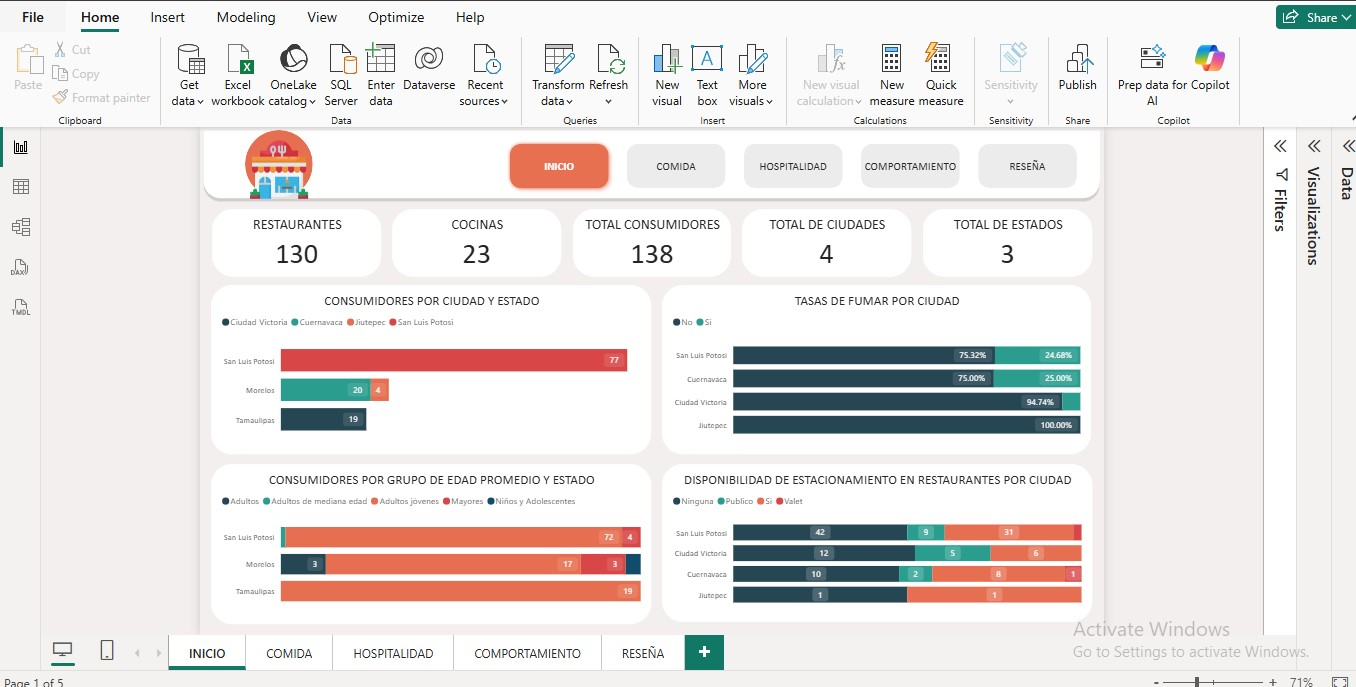

This screenshot's page, from the dashboard's own definition file:
{"tool":"powerbi","page":{"name":"INICIO","canvas":[1280,720],"ordinal":0},"visuals":[{"type":"shape","box":[0,0,1280.5,105.9],"z":0},{"type":"card","title":"TOTAL DE CIUDADES","fields":{"Values":["Count(restaurants.City)"]},"box":[768.4,116.5,240,96],"z":1000},{"type":"card","title":"RESTAURANTES","fields":{"Values":["Count(restaurants.Restaurant_ID)"]},"box":[16.4,116.5,240,96],"z":2000},{"type":"card","title":"COCINAS","fields":{"Values":["Count(restaurant_cuisines.Cuisine)"]},"box":[272.4,116.5,240,96],"z":3000},{"type":"card","title":"TOTAL CONSUMIDORES","fields":{"Values":["Count(consumer_preferences.Consumer_ID)"]},"box":[528.4,116.5,224,96],"z":4000},{"type":"card","title":"TOTAL DE ESTADOS","fields":{"Values":["Count(restaurants.State)"]},"box":[1024.4,116.5,240,96],"z":5000},{"type":"pageNavigator","box":[430.9,15.6,823.5,79.4],"z":6000},{"type":"barChart","title":"CONSUMIDORES POR CIUDAD Y ESTADO","fields":{"Y":["CountNonNull(consumers.Consumer_ID)"],"Category":["consumers.State"],"Series":["consumers.City"]},"box":[15.7,224.1,624.1,239.8],"z":7000},{"type":"hundredPercentStackedBarChart","title":"CONSUMIDORES POR GRUPO DE EDAD PROMEDIO Y ESTADO","fields":{"Category":["consumers.State"],"Y":["CountNonNull(consumers.Consumer_ID)"],"Series":["consumers.AgeGroup (groups) (groups) (groups) (groups) (groups)"]},"box":[15.7,477.1,624.1,226.5],"z":8000},{"type":"hundredPercentStackedBarChart","title":"TASAS DE FUMAR POR CIUDAD","fields":{"Y":["CountNonNull(consumers.Consumer_ID)"],"Category":["consumers.City"],"Series":["consumers.Smoker (groups)"]},"box":[655.4,224.1,608.4,239.8],"z":9000},{"type":"hundredPercentStackedBarChart","title":"DISPONIBILIDAD DE ESTACIONAMIENTO EN RESTAURANTES POR CIUDAD","fields":{"Category":["restaurants.City"],"Y":["CountNonNull(restaurants.Restaurant_ID)"],"Series":["restaurants.Parking (groups)"]},"box":[655.4,477.1,609.6,224.1],"z":10000},{"type":"shape","box":[63.7,4.4,96.2,96.7],"z":11000},{"type":"image","box":[56,9.3,111.5,101.1],"z":12000}]}

Visuals, with their boxes on the page's 1280x720 design canvas (x1, y1, x2, y2). These are canvas units, not pixel positions in the 1356x687 screenshot, which may show the page scaled, cropped or inside an application window:
shape: [left=0, top=0, right=1280, bottom=106]
"TOTAL DE CIUDADES" card: [left=768, top=116, right=1008, bottom=212]
"RESTAURANTES" card: [left=16, top=116, right=256, bottom=212]
"COCINAS" card: [left=272, top=116, right=512, bottom=212]
"TOTAL CONSUMIDORES" card: [left=528, top=116, right=752, bottom=212]
"TOTAL DE ESTADOS" card: [left=1024, top=116, right=1264, bottom=212]
pageNavigator: [left=431, top=16, right=1254, bottom=95]
"CONSUMIDORES POR CIUDAD Y ESTADO" barChart: [left=16, top=224, right=640, bottom=464]
"CONSUMIDORES POR GRUPO DE EDAD PROMEDIO Y ESTADO" hundredPercentStackedBarChart: [left=16, top=477, right=640, bottom=704]
"TASAS DE FUMAR POR CIUDAD" hundredPercentStackedBarChart: [left=655, top=224, right=1264, bottom=464]
"DISPONIBILIDAD DE ESTACIONAMIENTO EN RESTAURANTES POR CIUDAD" hundredPercentStackedBarChart: [left=655, top=477, right=1265, bottom=701]
shape: [left=64, top=4, right=160, bottom=101]
image: [left=56, top=9, right=168, bottom=110]
